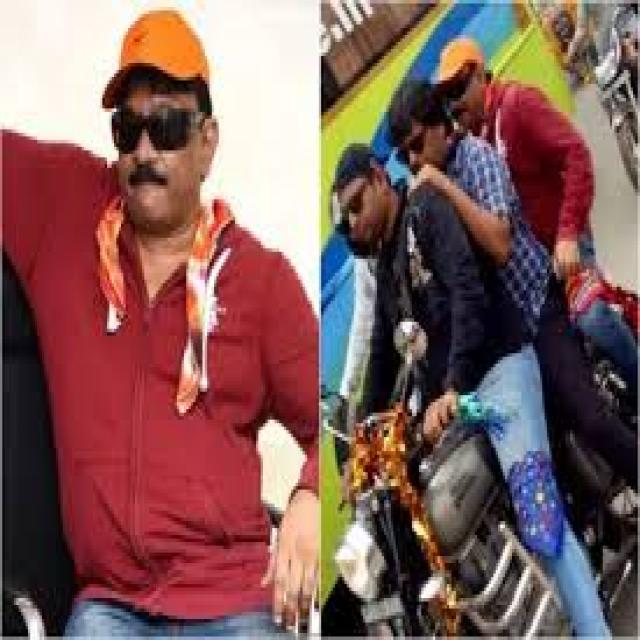Triple_riding: (330, 50, 638, 529)
